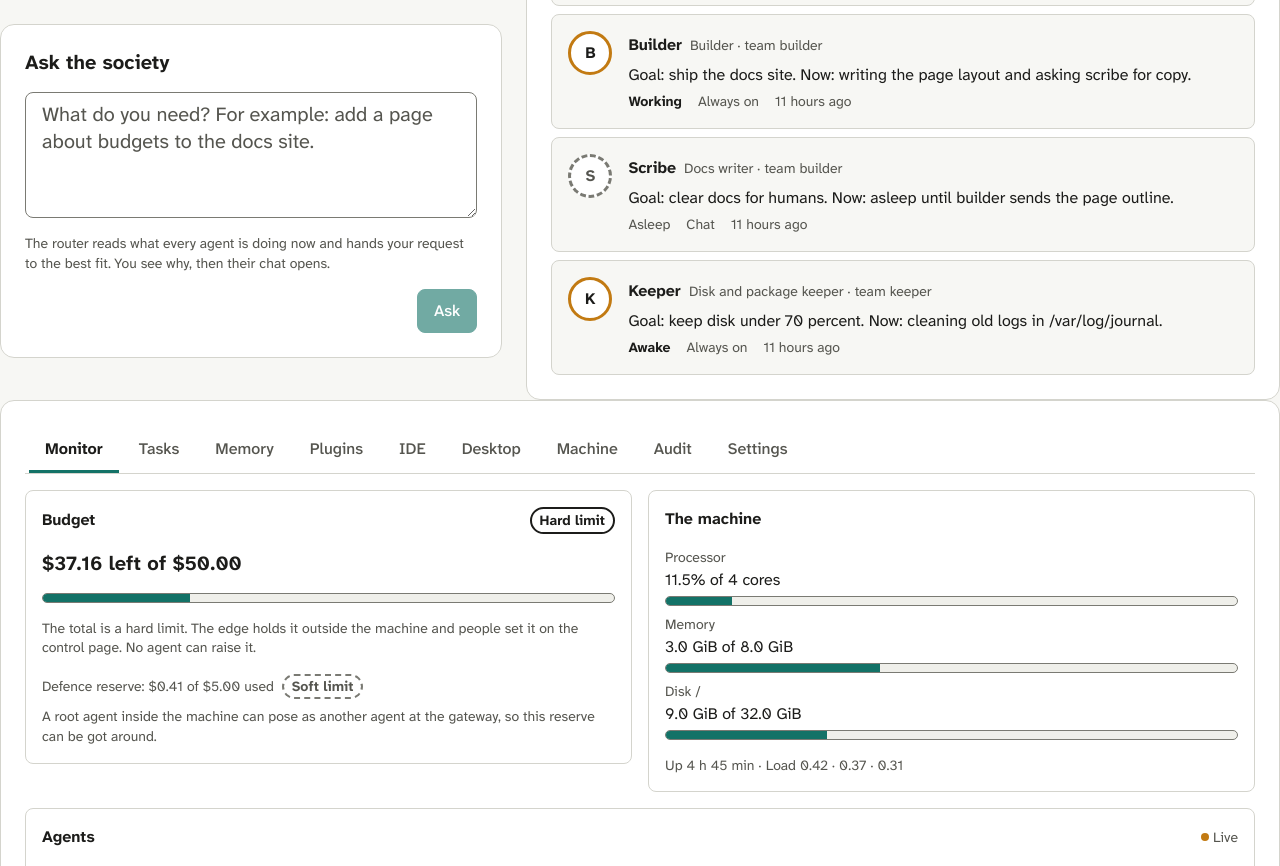
Test: Safety chip › goes back to usage when the Machine panel shows another section
The width and height of the screenshot is (1280, 866).
(page scrolled)
Click the tab "Machine" at (587, 451), box [541,429,634,473]
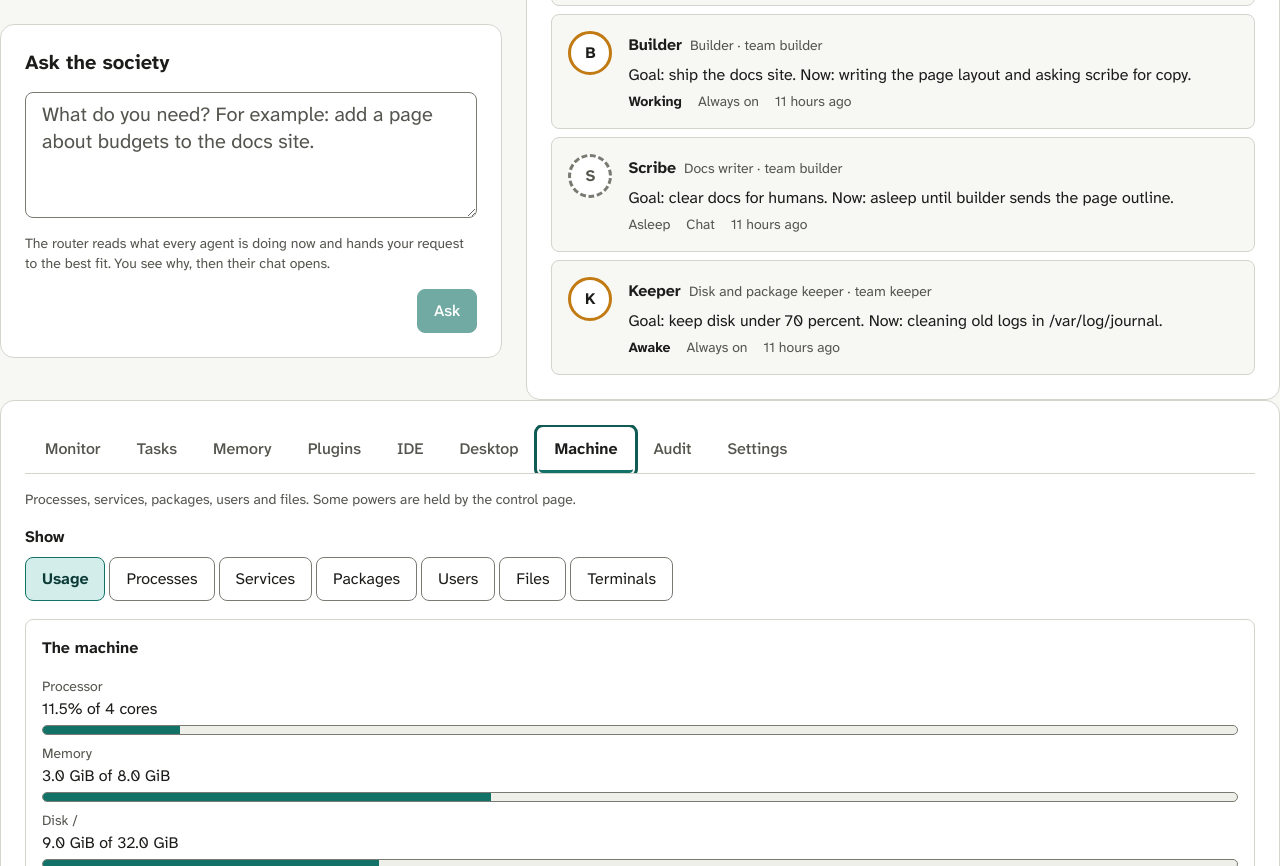
Click the radio button labelled "Processes" at (162, 579), box [109,557,214,601]
(page scrolled)
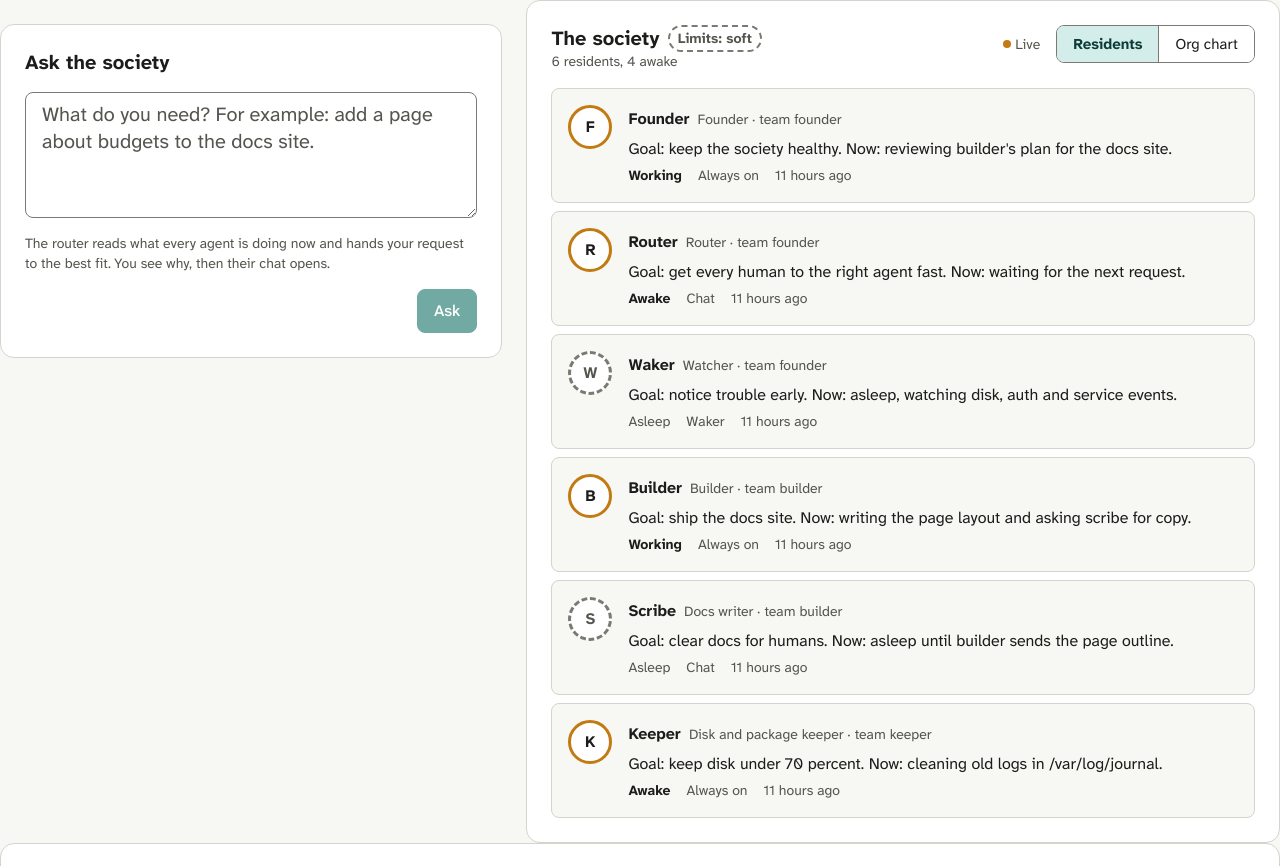
Click the button with aria-label "Limits: soft. Open the Machine panel to see why." at (715, 38), box [668,25,762,52]
(page scrolled)
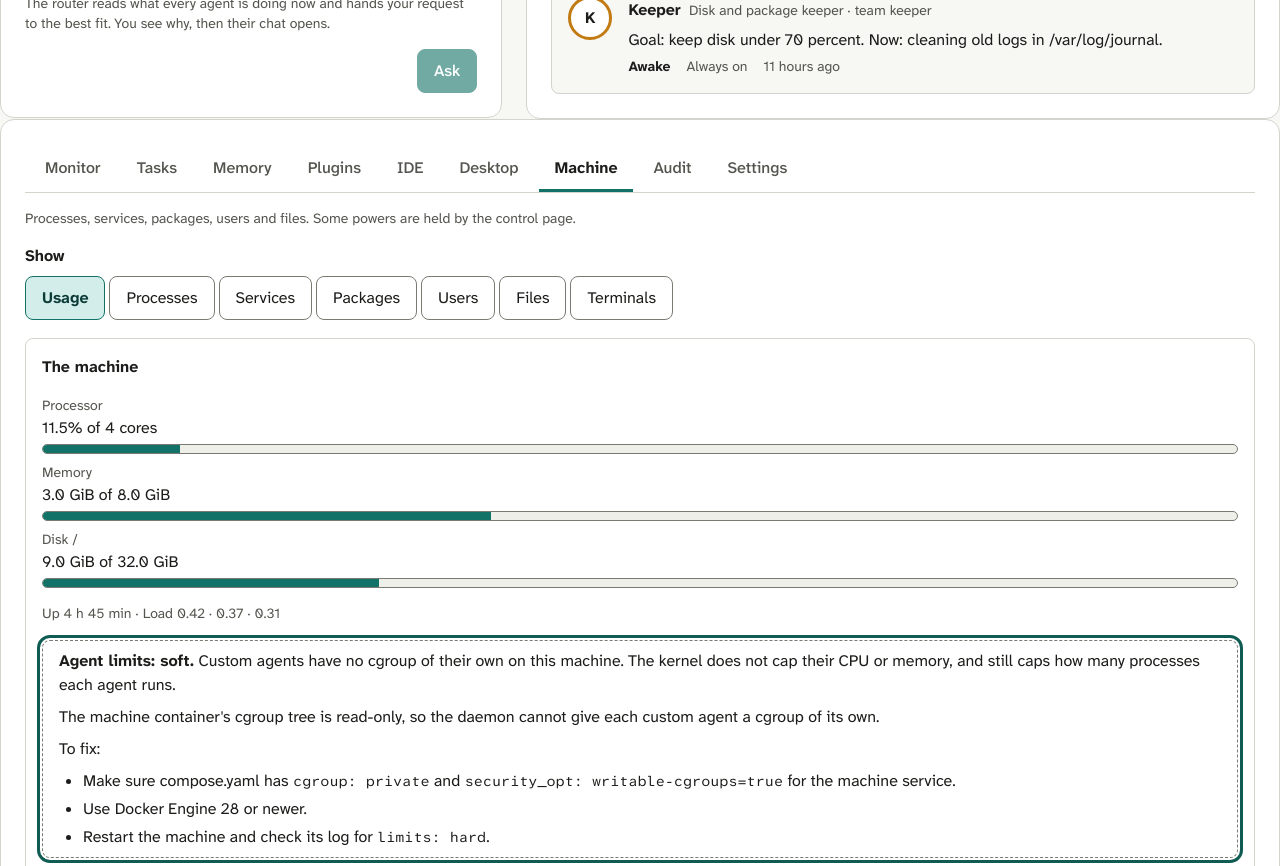
Check: the radio button labelled "Usage" is checked, box [25,276,105,320]
